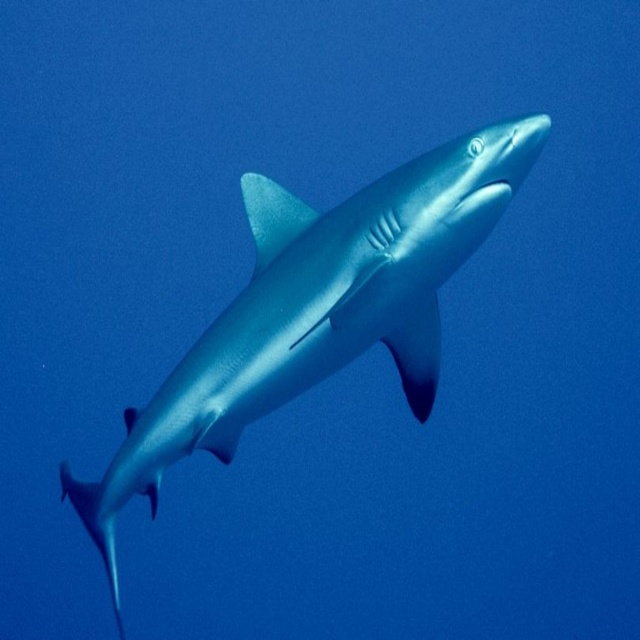Shark: (60, 116, 552, 638)
